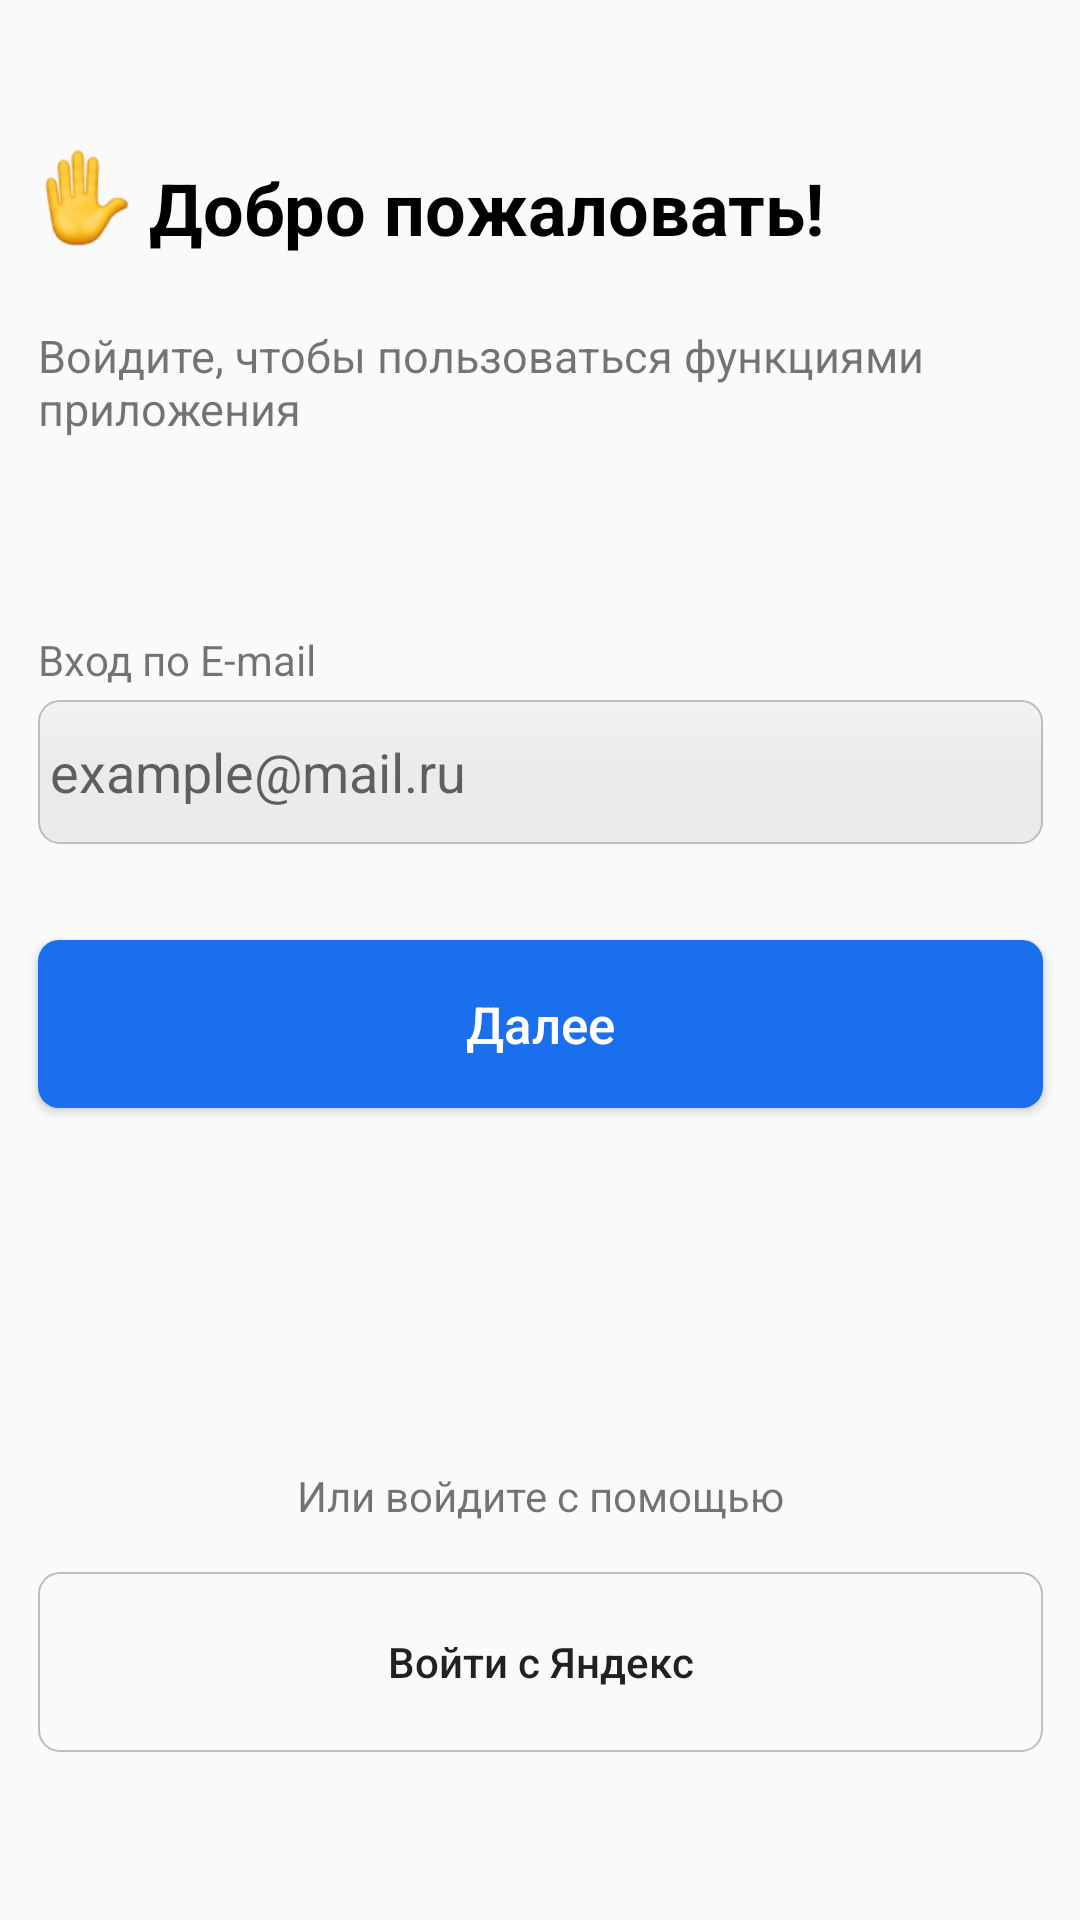

Named icons in this screenshot (1080px×1920px) and their centers, point (x, y):
imoji: point (87, 198)
